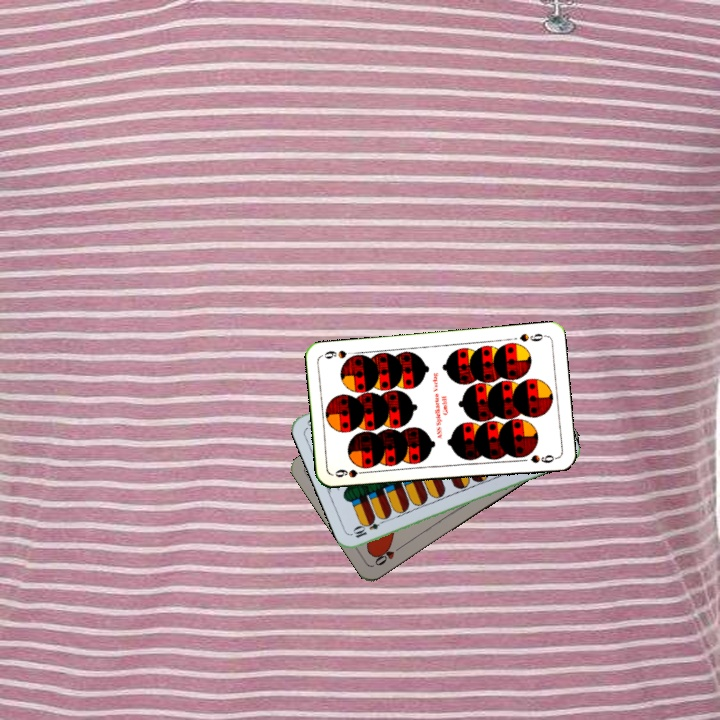E10: (349, 515, 389, 541)
HO: (370, 541, 407, 568)
S9: (331, 465, 371, 480), (516, 329, 549, 344)
